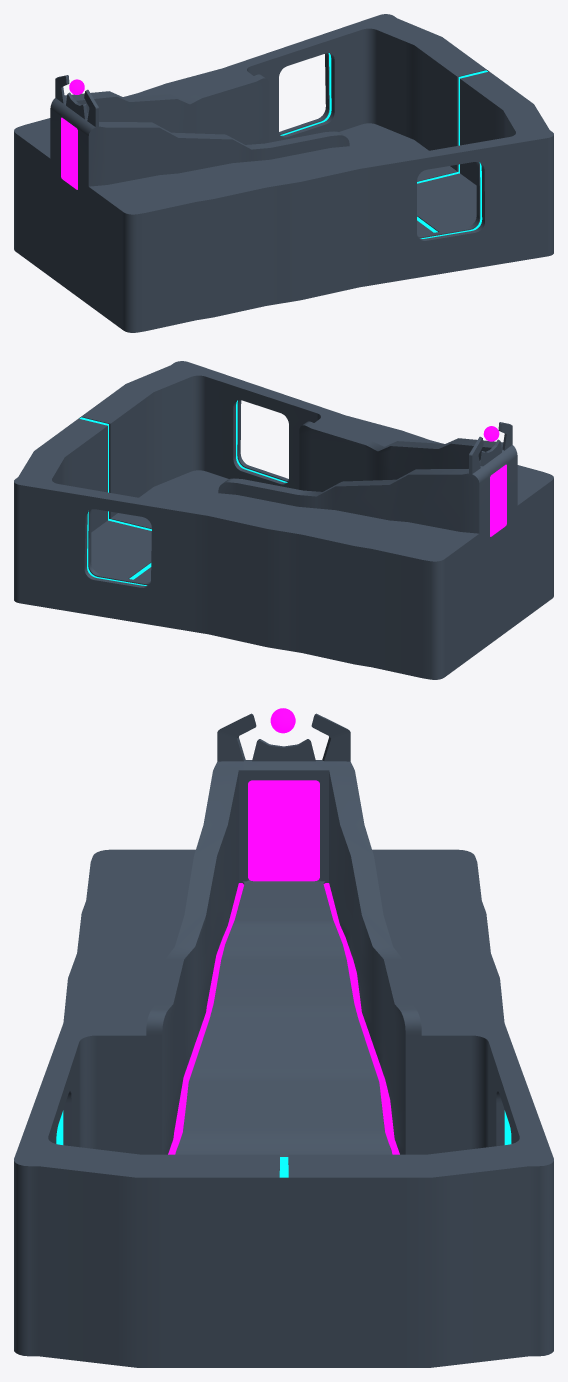
The model's file is Nivel_2-Modulo9 (1).fbx.
The picture shows the model from 3 angles, top to bottom: view 1: azimuth 30°, elevation 25°; view 2: azimuth 150°, elevation 25°; view 3: azimuth 270°, elevation 25°; orthographic projection. The views are drawn at different scales.
Visible parts, largest first — view 1: polySurface52, polySurface55; view 2: polySurface52, polySurface55; view 3: polySurface52, polySurface51, polySurface35, polySurface34, polySurface37, polySurface36.
Part boxes in pixels (<box>): polySurface52: <box>14,14,553,332</box>; polySurface55: <box>280,53,488,238</box>; polySurface52: <box>14,361,553,679</box>; polySurface55: <box>79,400,287,585</box>; polySurface52: <box>14,713,553,1367</box>; polySurface51: <box>168,708,399,1154</box>; polySurface35: <box>300,780,319,881</box>; polySurface34: <box>248,780,267,881</box>; polySurface37: <box>284,780,299,881</box>; polySurface36: <box>268,780,283,881</box>.
Size of the model in its own units: 37.01 by 17.68 by 25.74.
